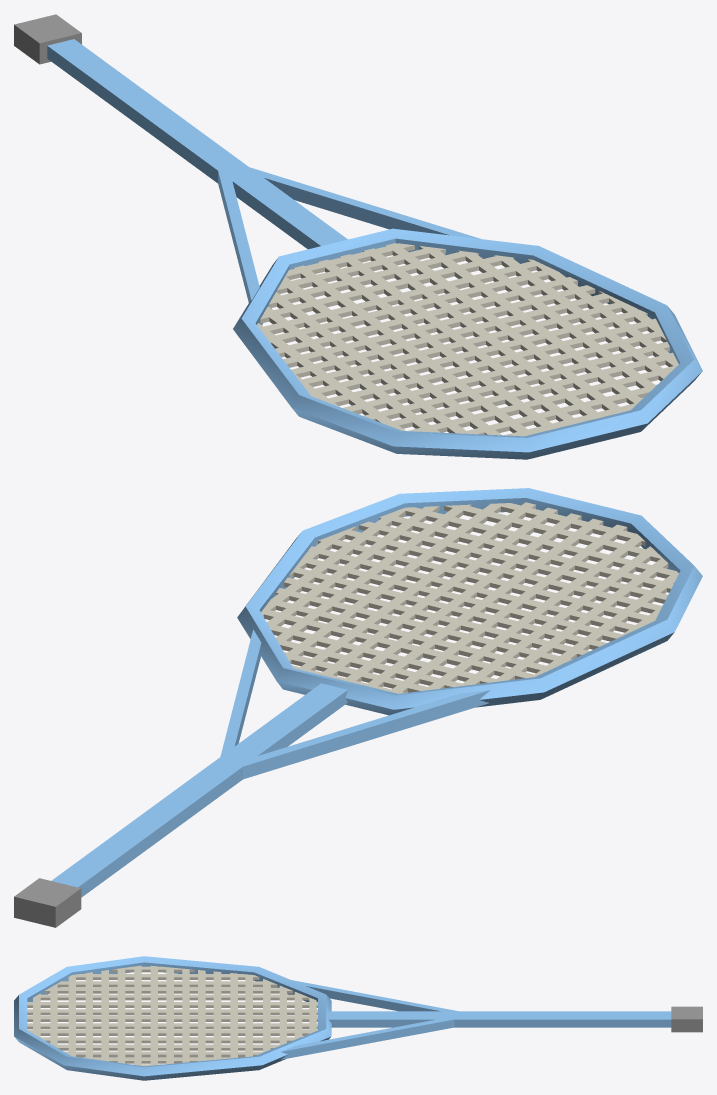
Rendered from tennis2.fbx.
3 views of the same model, one above another, from view 1: azimuth 30°, elevation 25°; view 2: azimuth 150°, elevation 25°; view 3: azimuth 270°, elevation 25° (orthographic). The views are drawn at different scales.
Parts seen in each view (by area): view 1: Cube_5; view 2: Cube_5; view 3: Cube_5.
Part boxes in pixels (bbox=[...]): Cube_5: bbox=[14, 14, 702, 459]; Cube_5: bbox=[14, 488, 702, 927]; Cube_5: bbox=[14, 956, 702, 1080].
Bounding box in the file's own units: 38.17 × 2.07 × 96.04.
